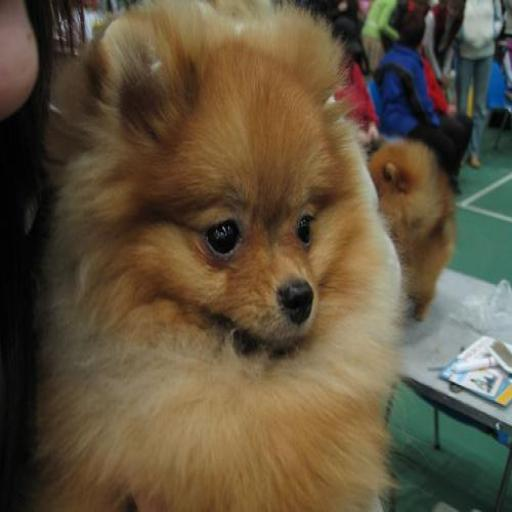dog_face: (89, 8, 327, 328)
